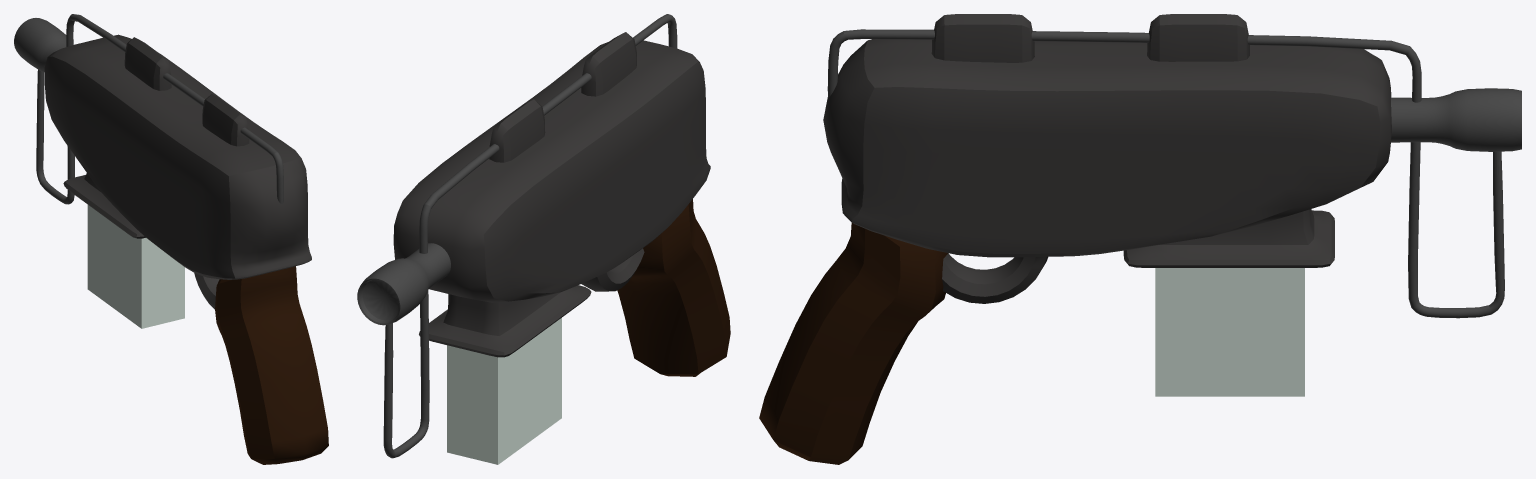
File: SMG.fbx
3 renders of one model, left to right at view 1: azimuth 30°, elevation 25°; view 2: azimuth 150°, elevation 25°; view 3: azimuth 270°, elevation 25°, orthographic. The views are drawn at different scales.
Parts seen in each view (by area): view 1: SMG, Ammo; view 2: SMG, Ammo; view 3: SMG, Ammo.
Part boxes in pixels (bbox=[...]): SMG: bbox=[14, 14, 328, 464]; Ammo: bbox=[87, 205, 184, 328]; SMG: bbox=[357, 14, 730, 458]; Ammo: bbox=[447, 318, 561, 464]; SMG: bbox=[759, 14, 1521, 464]; Ammo: bbox=[1155, 268, 1304, 396].
Bounding box in the file's own units: 52.86 × 185 × 291.
